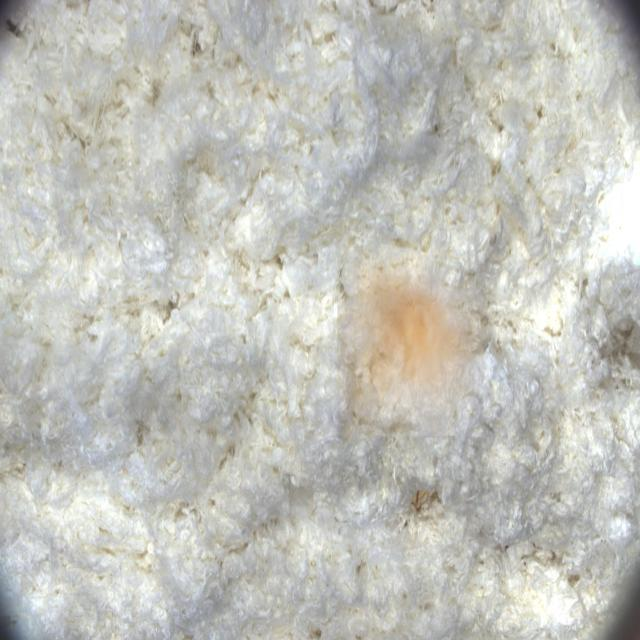dust: (337, 250, 487, 436)
